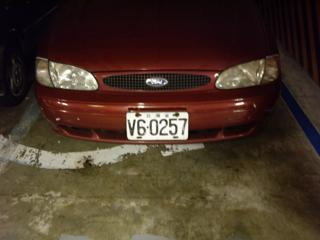plate: (124, 110, 189, 141)
